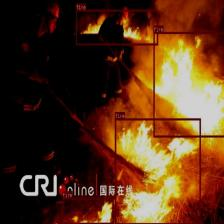fire: (114, 118, 200, 224), (153, 32, 224, 137), (76, 10, 158, 45), (62, 197, 113, 224)
